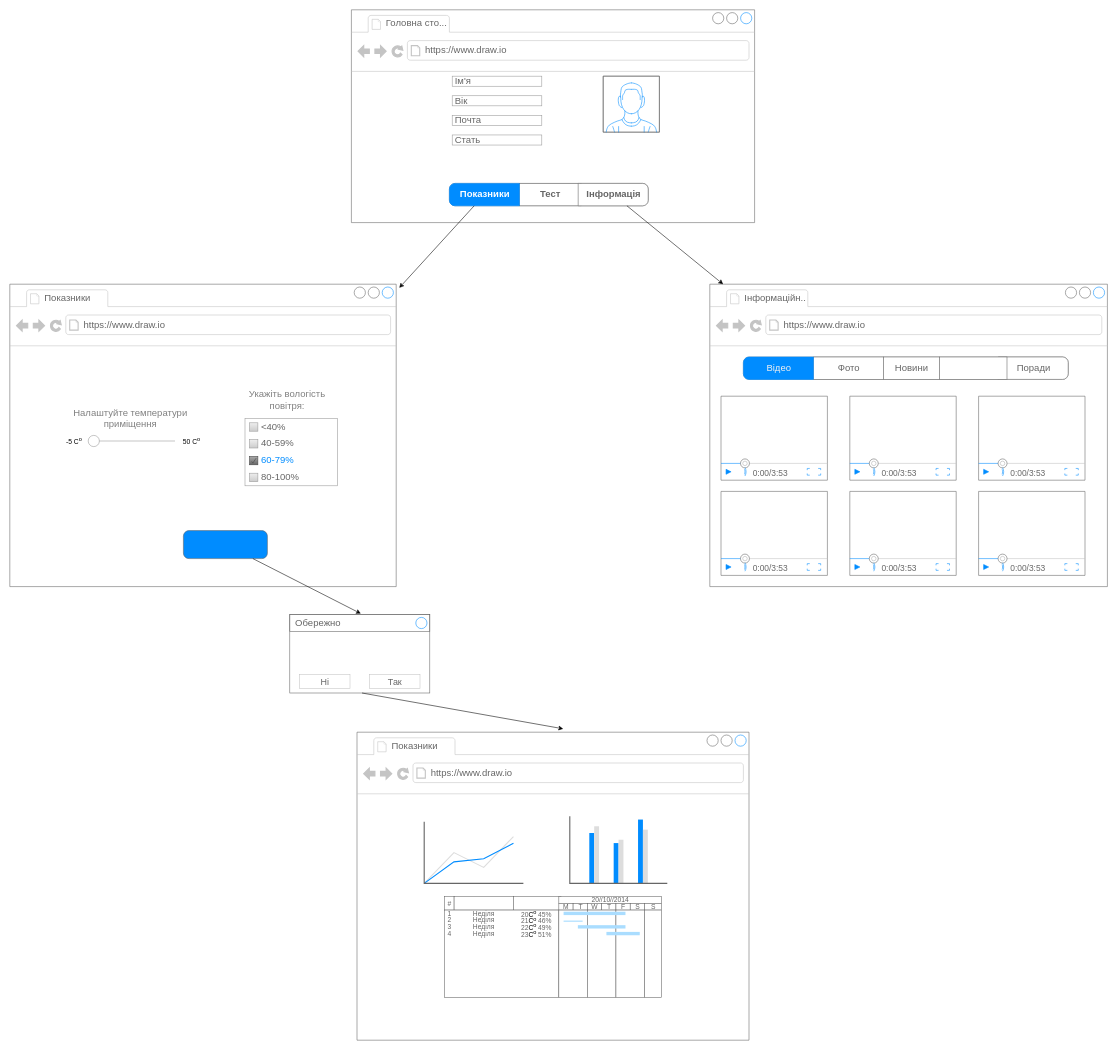
Some shapes in this 1117 by 1050 pixel diagram are drawn without their labels. The centre of each missing label's shape, as x and y in pixels:
"Start" goes at (x=483, y=903).
"Дані введені вірно?" goes at (x=359, y=653).
"Надіслати" goes at (x=225, y=544).
"Пости" goes at (x=973, y=367).
"У середньому" goes at (x=537, y=903).
